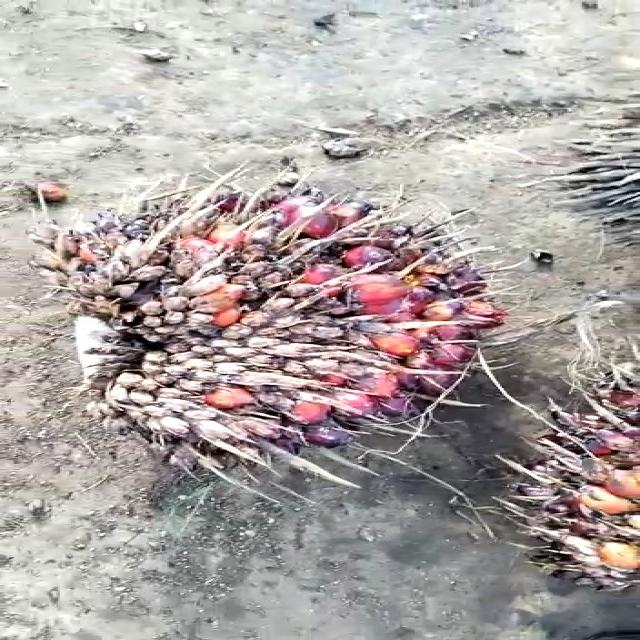palm oil: (42, 154, 525, 492)
